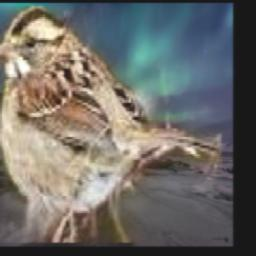Sparrow: (0, 7, 222, 244)
